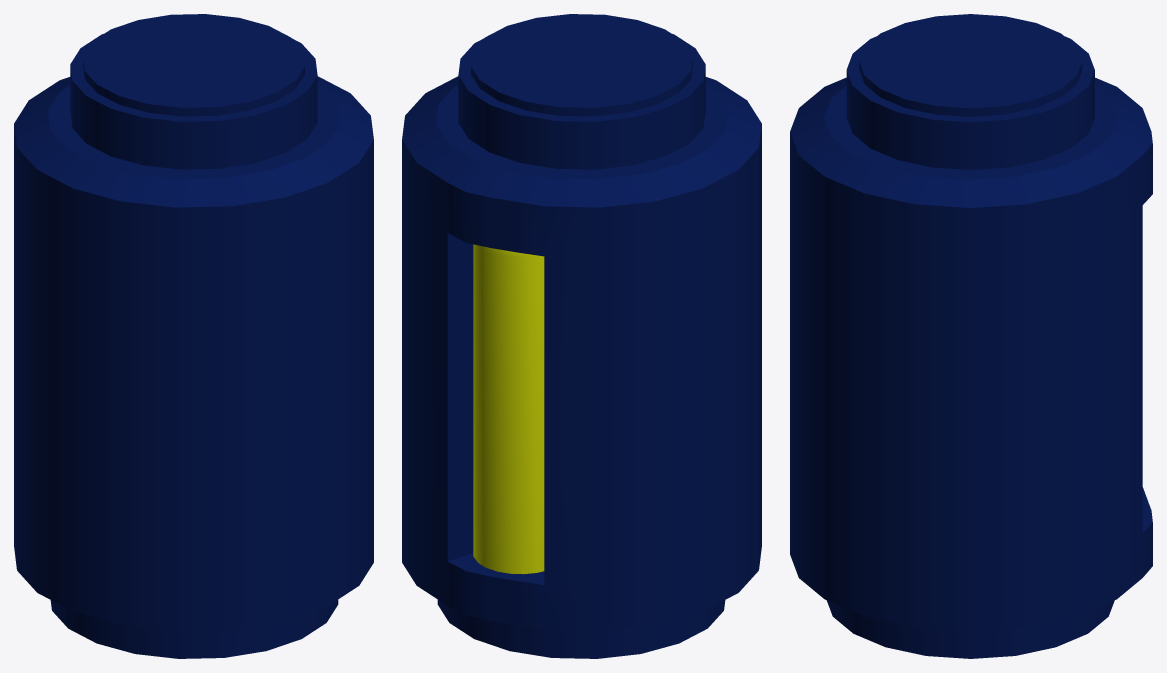
The model's file is BatteryPack.fbx.
3 views of the same model, side by side, from view 1: azimuth 30°, elevation 25°; view 2: azimuth 150°, elevation 25°; view 3: azimuth 270°, elevation 25° (orthographic).
Visible parts, largest first — view 1: Main; view 2: Main, Power; view 3: Main.
Part boxes in pixels (box(x1,y1,x2,y2)): Main: box(14, 14, 373, 658); Main: box(402, 14, 761, 658); Power: box(473, 244, 544, 574); Main: box(790, 14, 1152, 658).
Bounding box in the file's own units: 5.95 × 9.86 × 5.97.
